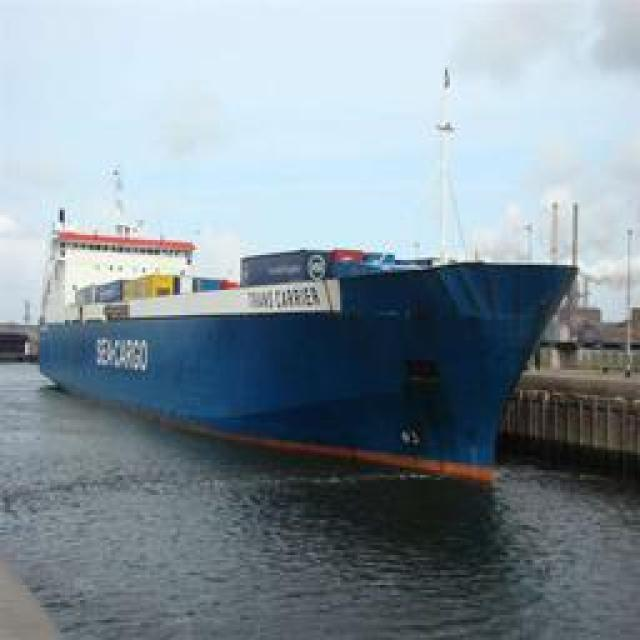CIV_Ship: (31, 81, 591, 479)
